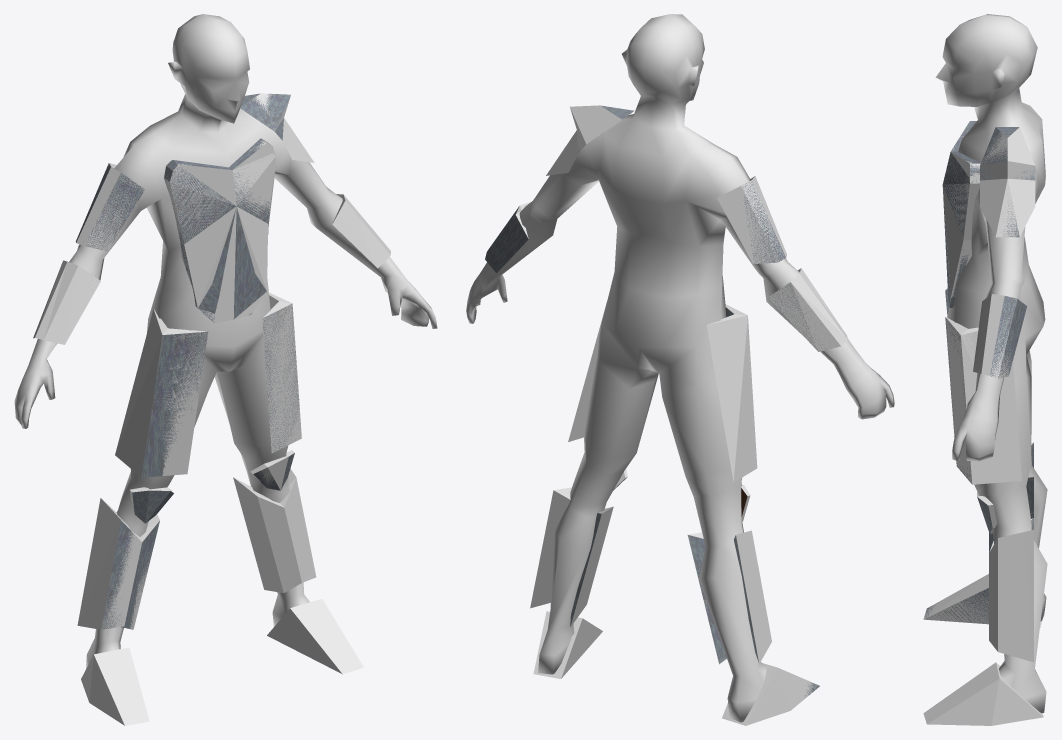
The model's file is Maewfall Armor Display.glb.
3 views of the same model, side by side, from view 1: azimuth 30°, elevation 25°; view 2: azimuth 150°, elevation 25°; view 3: azimuth 270°, elevation 25° (orthographic).
Parts seen in each view (by area): view 1: Dumah, Armor Low Poly, Maewfall Armor Display, Armor, Armor (Non Symetrical); view 2: Dumah, Armor Low Poly, Maewfall Armor Display, Armor, Armor (Non Symetrical); view 3: Dumah, Armor, Armor Low Poly, Maewfall Armor Display, Armor (Non Symetrical).
Part boxes in pixels (x1=…): Dumah: x1=14, y1=14, x2=437, y2=668; Armor Low Poly: x1=33, y1=140, x2=390, y2=725; Maewfall Armor Display: x1=75, y1=93, x2=300, y2=629; Armor: x1=251, y1=194, x2=390, y2=627; Armor (Non Symetrical): x1=76, y1=93, x2=314, y2=323; Dumah: x1=466, y1=14, x2=894, y2=722; Armor Low Poly: x1=515, y1=186, x2=847, y2=725; Maewfall Armor Display: x1=485, y1=105, x2=827, y2=697; Armor: x1=520, y1=202, x2=626, y2=627; Armor (Non Symetrical): x1=546, y1=105, x2=786, y2=262; Dumah: x1=935, y1=14, x2=1047, y2=713; Armor: x1=927, y1=294, x2=1043, y2=725; Armor Low Poly: x1=923, y1=152, x2=1043, y2=723; Maewfall Armor Display: x1=924, y1=121, x2=1035, y2=624; Armor (Non Symetrical): x1=949, y1=122, x2=1035, y2=307.
Bounding box in the file's own units: 1.47 × 2.22 × 0.3839.
3 materials, 2 textured.
